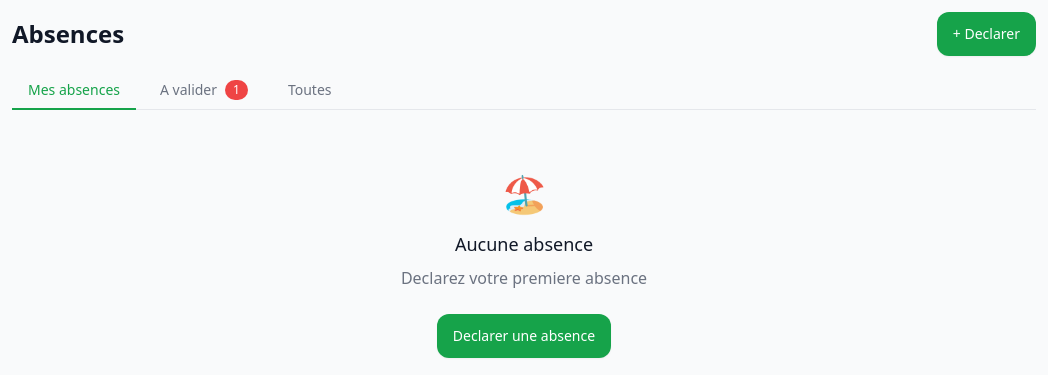
Absences › as patron › should show validate and refuse buttons for pending absences
This screenshot has width=1048, height=375.
Click the button "A valider 1" at (204, 91), box [144,72,264,110]
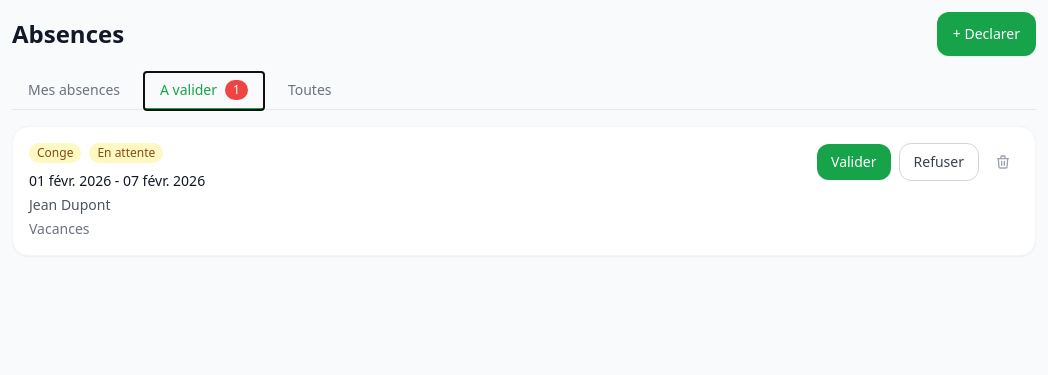
Expected: the button "Valider" is shown, [817,144,890,180]
Expected: the button "Refuser" is shown, [898,143,979,181]
